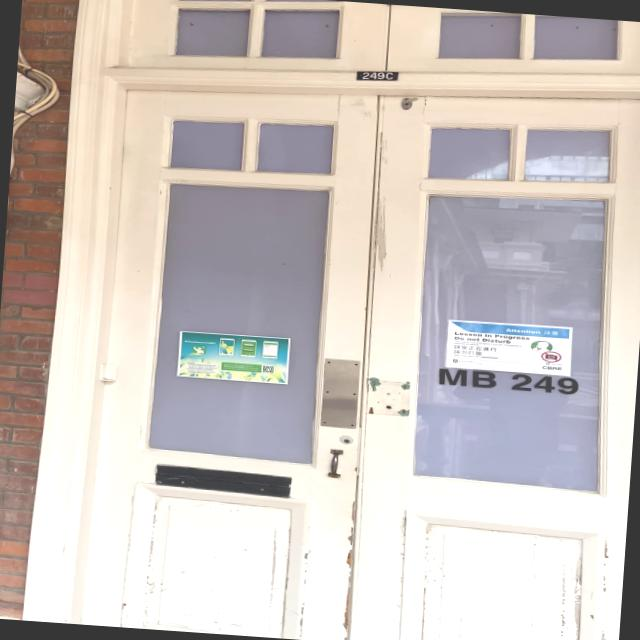room249c: (353, 66, 400, 86)
room249cWindow: (431, 362, 583, 398)
